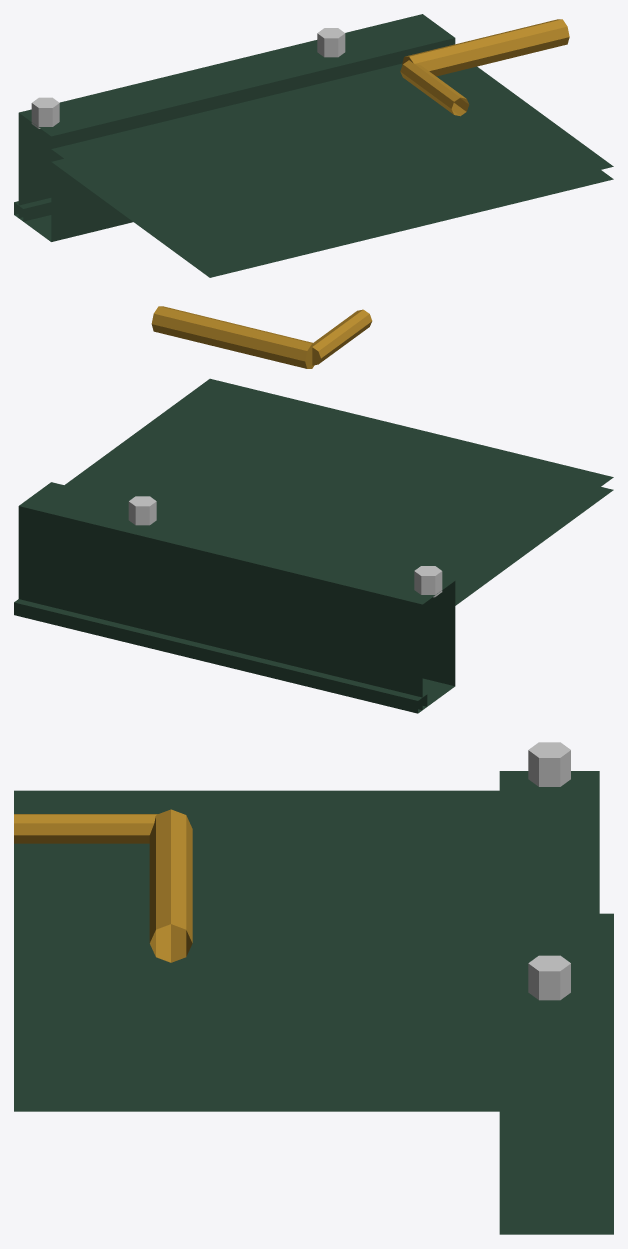
Rendered from cell_1.obj.
3 renders of one model, top to bottom at view 1: azimuth 30°, elevation 25°; view 2: azimuth 150°, elevation 25°; view 3: azimuth 270°, elevation 25°, orthographic. The views are drawn at different scales.
Bounding box in the file's own units: 1 × 0.48 × 0.84.
